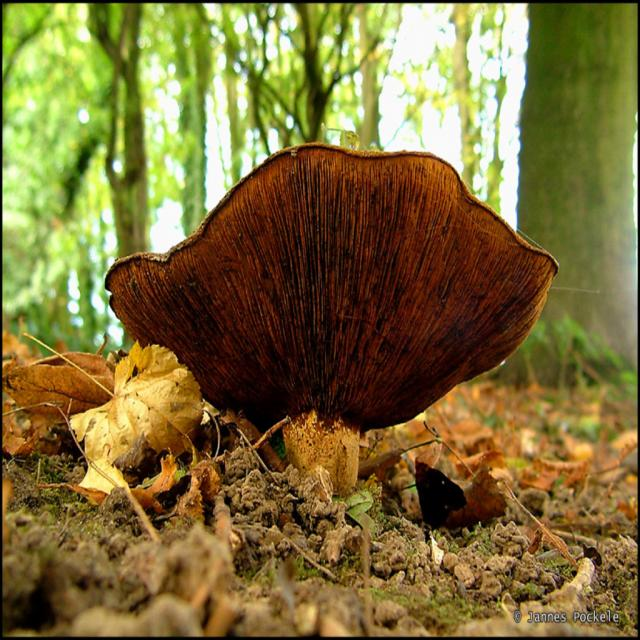Mushroom: (97, 134, 565, 506)
